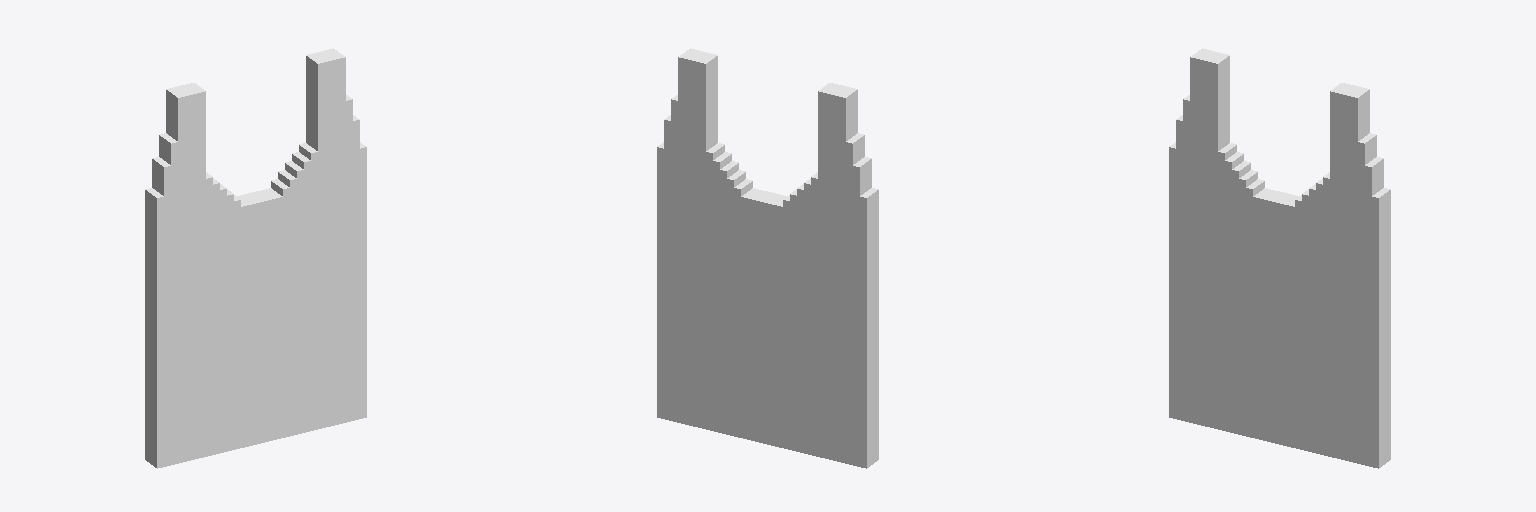
The model's file is tanktop_grey.obj.
3 renders of one model, left to right at view 1: azimuth 30°, elevation 25°; view 2: azimuth 150°, elevation 25°; view 3: azimuth 330°, elevation 25°, orthographic.
Visible parts, largest first — view 1: object 1; view 2: object 1; view 3: object 1.
Part boxes in pixels (x1,y1,x2,y2): object 1: (145, 48, 366, 468); object 1: (657, 48, 878, 468); object 1: (1169, 48, 1390, 468).
Bounding box in the file's own units: 3 × 5 × 0.3.